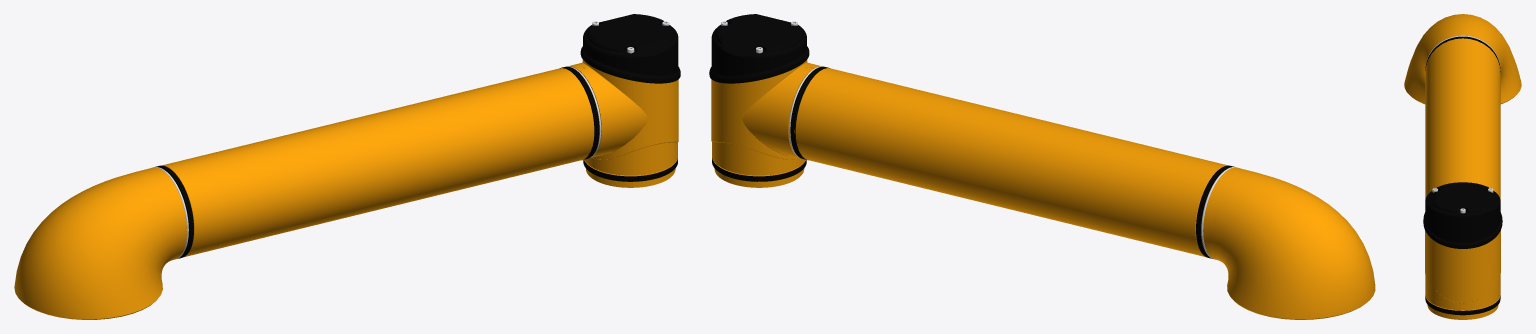
Rendered from foreArm_Link.DAE.
3 renders of one model, left to right at view 1: azimuth 30°, elevation 25°; view 2: azimuth 150°, elevation 25°; view 3: azimuth 270°, elevation 25°, orthographic. The views are drawn at different scales.
Parts seen in each view (by area): view 1: NONE-DC_Shell_ncl1_4, NONE-DC_Shell_ncl1_6, NONE-DC_Shell_ncl1_14, NONE-DC_Shell_ncl1_16, NONE-DC_Shell_ncl1_10, NONE-DC_Shell_ncl1_9, NONE-DC_Shell_ncl1_13, NONE-DC_Shell_ncl1_15; view 2: NONE-DC_Shell_ncl1_4, NONE-DC_Shell_ncl1_6, NONE-DC_Shell_ncl1_14, NONE-DC_Shell_ncl1_16, NONE-DC_Shell_ncl1_10, NONE-DC_Shell_ncl1_9, NONE-DC_Shell_ncl1_13, NONE-DC_Shell_ncl1_15; view 3: NONE-DC_Shell_ncl1_4, NONE-DC_Shell_ncl1_14, NONE-DC_Shell_ncl1_16, NONE-DC_Shell_ncl1_6, NONE-DC_Shell_ncl1_13, NONE-DC_Shell_ncl1_15, NONE-DC_Shell_ncl1_9, NONE-DC_Shell_ncl1_5.
Part boxes in pixels (x1,y1,x2,y2): NONE-DC_Shell_ncl1_4: [162, 68, 594, 256]; NONE-DC_Shell_ncl1_6: [14, 167, 186, 319]; NONE-DC_Shell_ncl1_14: [569, 59, 678, 176]; NONE-DC_Shell_ncl1_16: [580, 14, 680, 83]; NONE-DC_Shell_ncl1_10: [560, 66, 599, 160]; NONE-DC_Shell_ncl1_9: [155, 165, 193, 258]; NONE-DC_Shell_ncl1_13: [583, 158, 677, 181]; NONE-DC_Shell_ncl1_15: [586, 143, 677, 187]; NONE-DC_Shell_ncl1_4: [795, 68, 1228, 256]; NONE-DC_Shell_ncl1_6: [1203, 167, 1375, 319]; NONE-DC_Shell_ncl1_14: [711, 59, 821, 176]; NONE-DC_Shell_ncl1_16: [709, 14, 809, 83]; NONE-DC_Shell_ncl1_10: [790, 66, 829, 159]; NONE-DC_Shell_ncl1_9: [1196, 165, 1234, 258]; NONE-DC_Shell_ncl1_13: [712, 137, 806, 181]; NONE-DC_Shell_ncl1_15: [712, 159, 805, 187]; NONE-DC_Shell_ncl1_4: [1425, 38, 1500, 199]; NONE-DC_Shell_ncl1_14: [1425, 230, 1500, 310]; NONE-DC_Shell_ncl1_16: [1423, 182, 1502, 248]; NONE-DC_Shell_ncl1_6: [1404, 14, 1521, 104]; NONE-DC_Shell_ncl1_13: [1425, 295, 1500, 315]; NONE-DC_Shell_ncl1_15: [1427, 304, 1498, 319]; NONE-DC_Shell_ncl1_9: [1425, 36, 1500, 71]; NONE-DC_Shell_ncl1_5: [1425, 35, 1500, 68].
Bounding box in the file's own units: 593 × 117 × 120.
